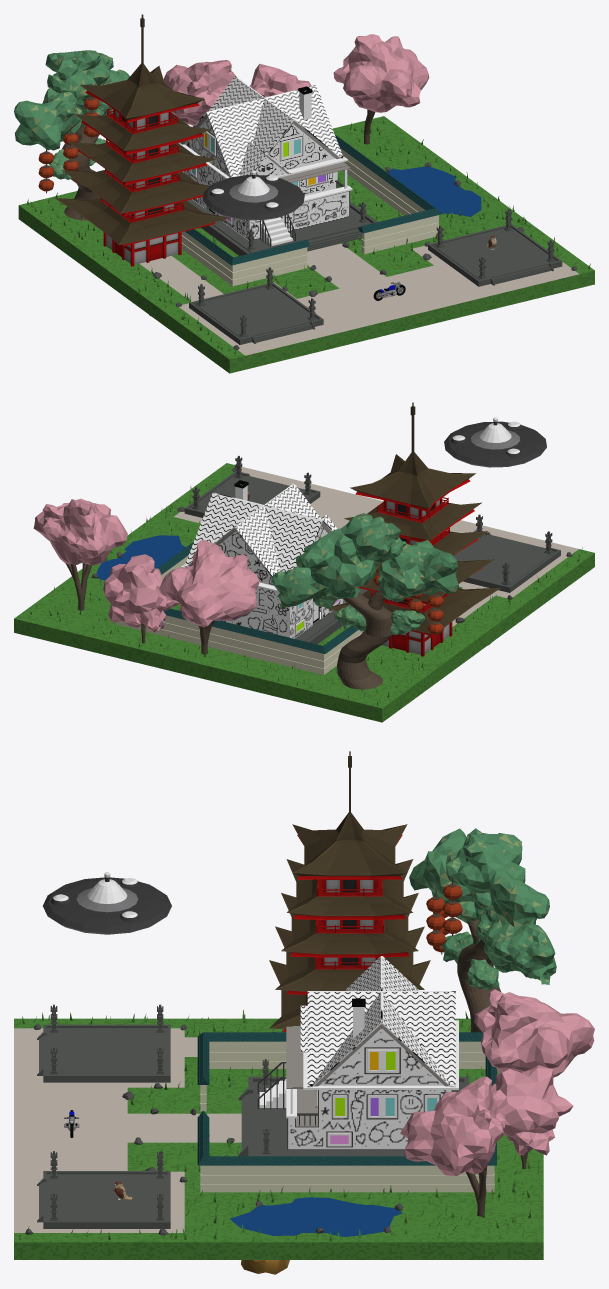
3 renders of one model, top to bottom at view 1: azimuth 30°, elevation 25°; view 2: azimuth 150°, elevation 25°; view 3: azimuth 270°, elevation 25°, orthographic. The views are drawn at different scales.
Visible parts, largest first — view 1: Cube.005, Cube.879, OBJRANDOM_UFO; view 2: Cube.005, Cube.879, OBJRANDOM_UFO; view 3: Cube.005, Cube.879, OBJRANDOM_UFO.
Boxes of the visible parts, x1,y1,x2,y2 form: Cube.005: (14,14,594,373); Cube.879: (178,76,352,247); OBJRANDOM_UFO: (202,171,304,220); Cube.005: (14,402,594,722); Cube.879: (180,480,344,638); OBJRANDOM_UFO: (444,417,546,467); Cube.005: (14,751,594,1259); Cube.879: (257,956,458,1149); OBJRANDOM_UFO: (43,872,171,934).
Size of the model in its own units: 4528 by 2803 by 4389.
41 materials, 12 textured.
